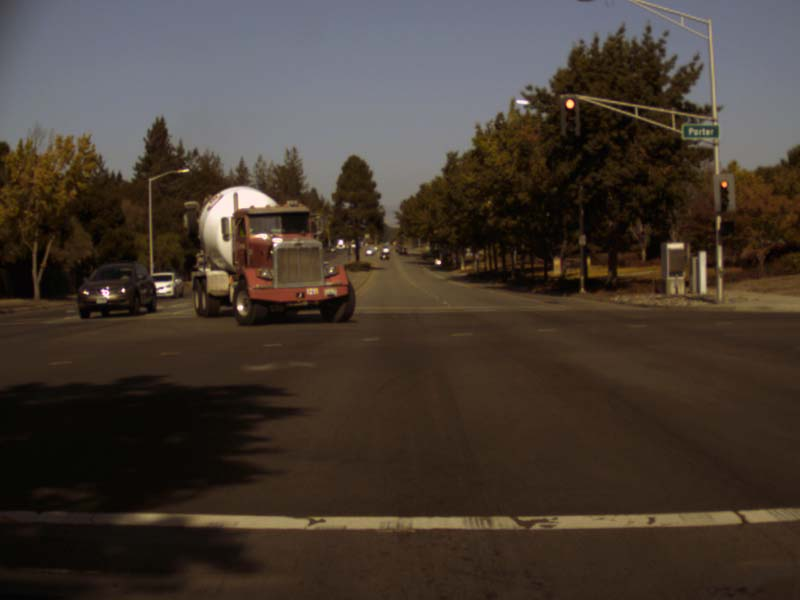Red: (561, 95, 579, 130), (719, 180, 727, 205)
